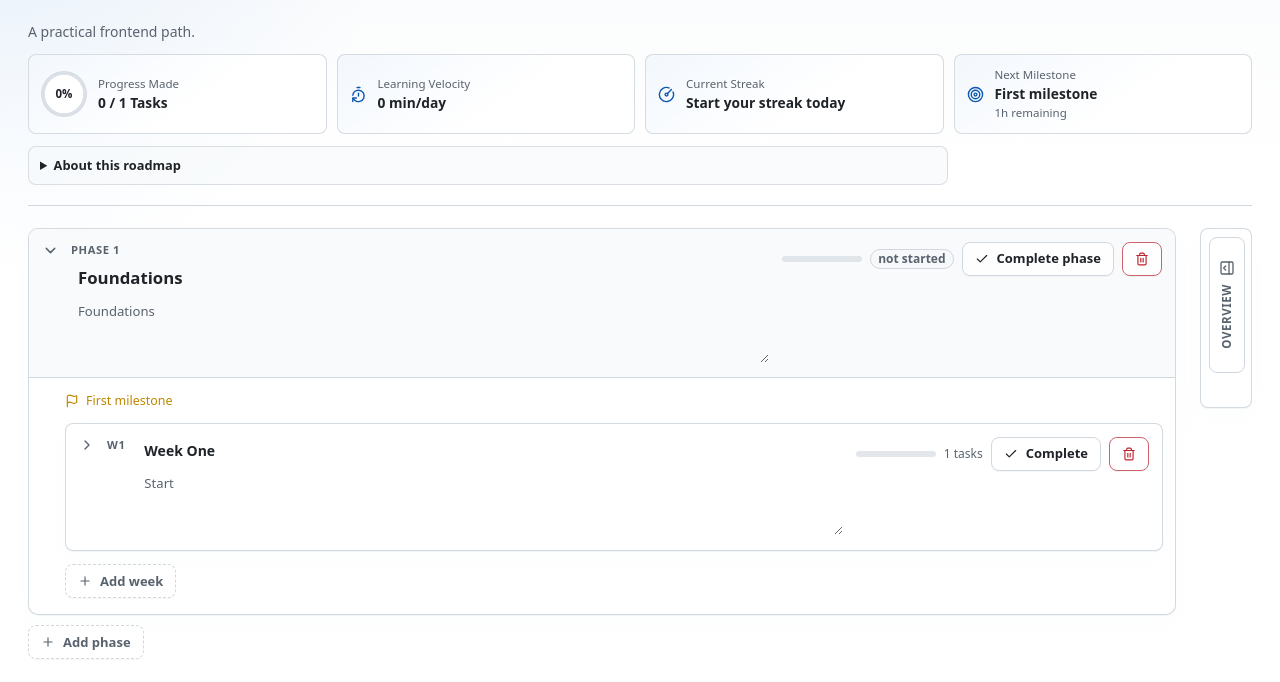
Scenario: renders and expands the complete roadmap hierarchy
expect the field named "Phase title" holds "Foundations": met, box [71,262,770,293]
expect the text "Progress Made" is shown: met, box [98,76,179,92]
Click the button named "Expand Week One".
click(87, 445)  # box [79,437,95,453]
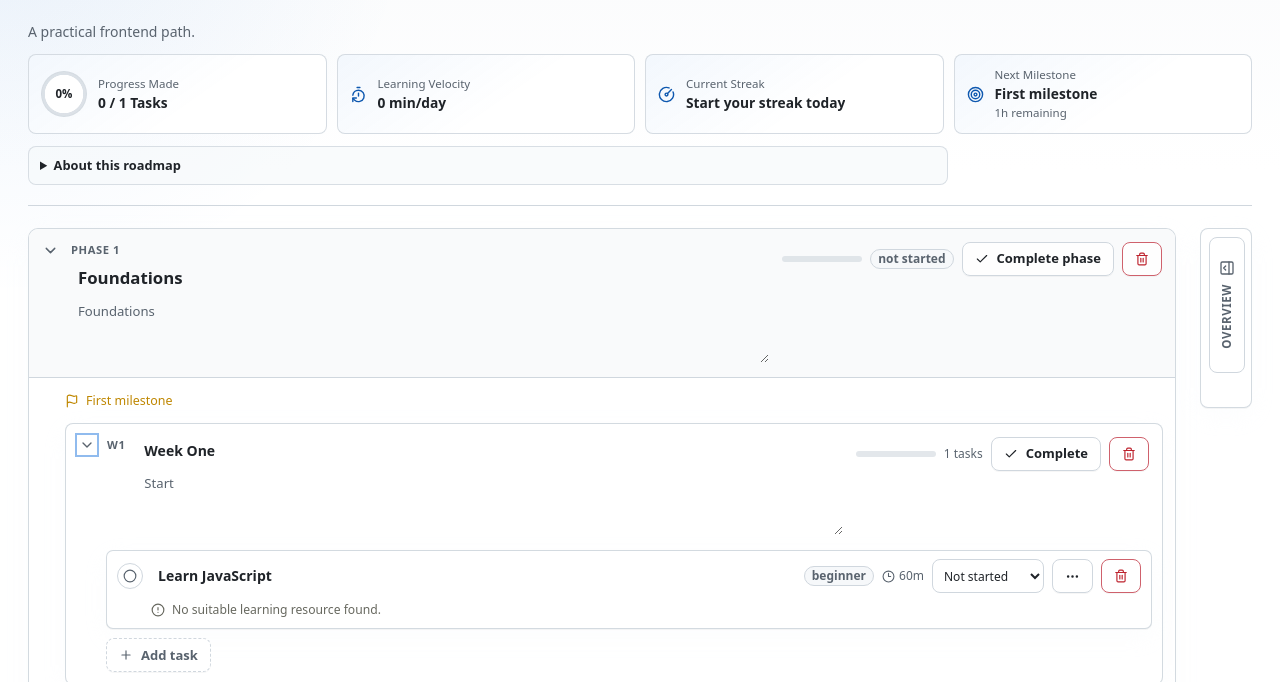
expect the field showing "Learn JavaScript" is shown: met, box [151,561,796,591]
expect the text "No suitable learning resource found." is shown: met, box [172,601,381,618]
Click the button with aria-label "Expand roadmap overview".
click(1227, 304)  # box [1209,236,1245,372]
(page scrolled)
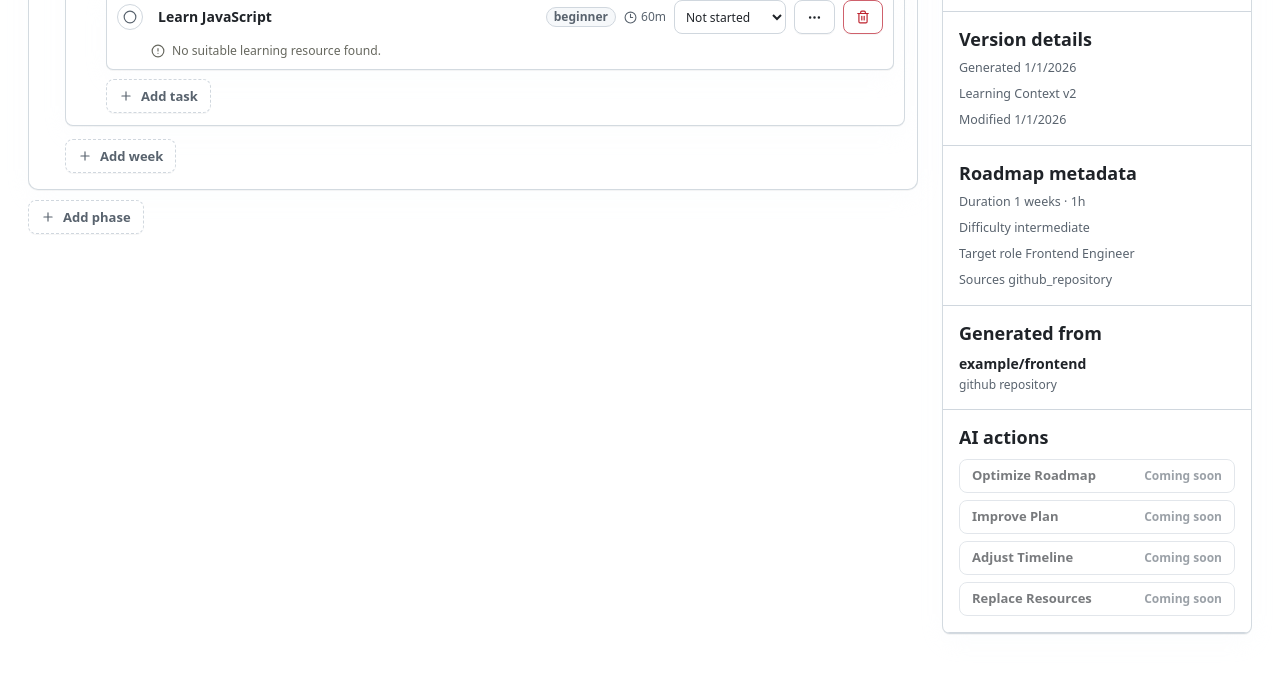
expect the text "Learning Context v2" is shown: met, box [959,85,1076,102]
expect the text "Target role Frontend Engineer" is shown: met, box [959,245,1135,262]
expect the text "example/frontend" is shown: met, box [959,354,1086,372]
